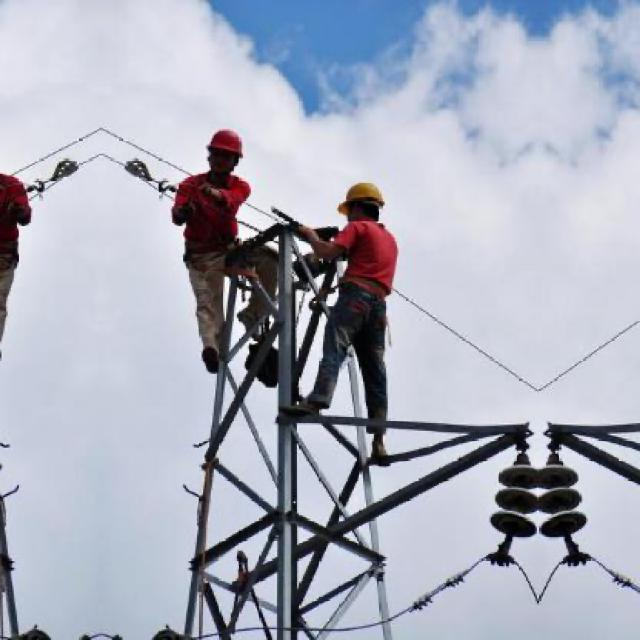helmet: (340, 174, 392, 228), (202, 123, 250, 179)
